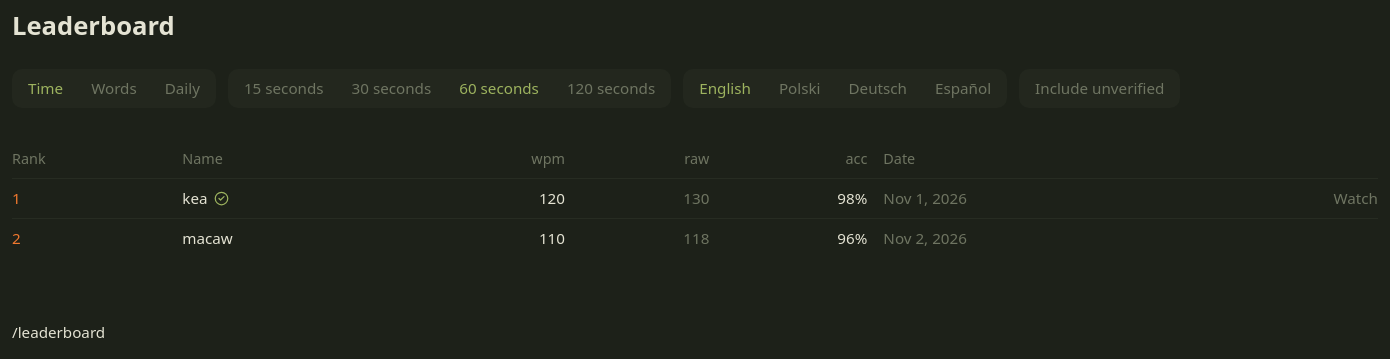
LeaderboardPage: verified results › lists unverified results only from the Include unverified toggle, and keeps it in the URL
The width and height of the screenshot is (1390, 359).
expect the table is shown: met, box [12, 140, 1378, 257]
Click the button "Include unverified": (1100, 89) [1023, 73, 1176, 104]
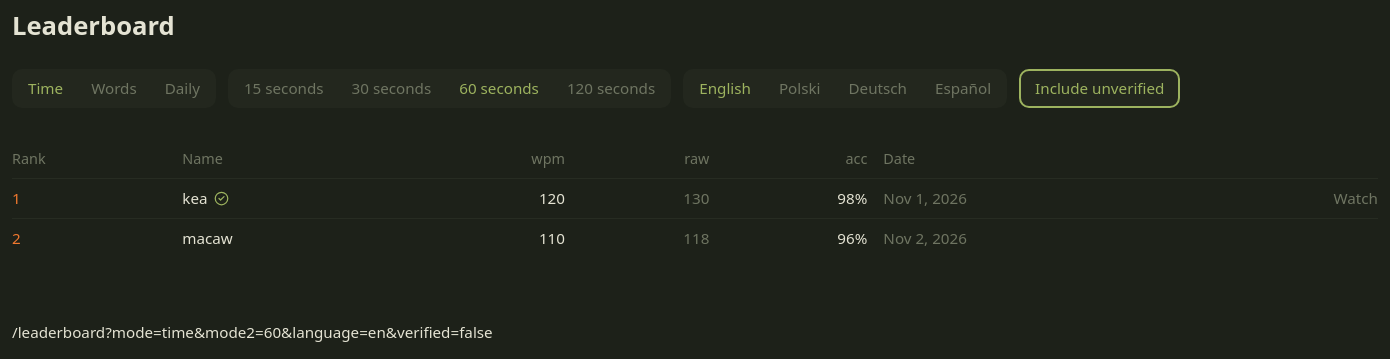
expect the text with test id "where" shows "verified=false": met, box [12, 322, 493, 342]
